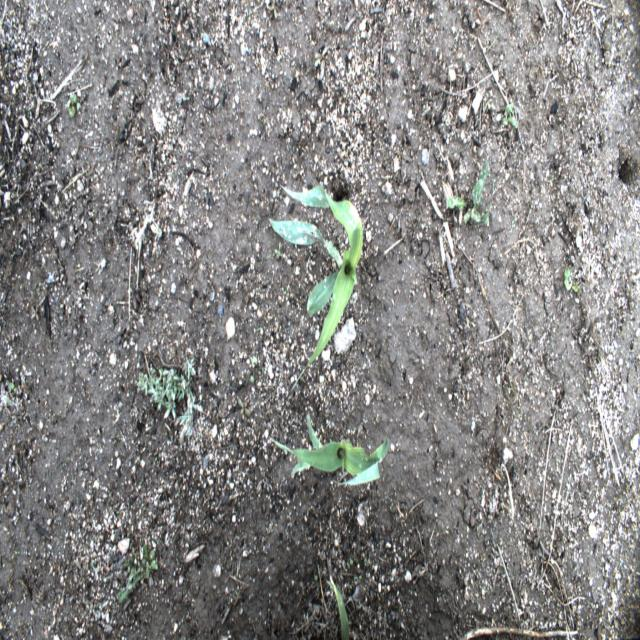crop: (268, 182, 362, 390), (268, 412, 389, 485), (326, 575, 349, 639)
weed: (136, 355, 204, 438), (447, 158, 491, 226), (117, 541, 158, 606), (66, 88, 82, 118), (562, 266, 580, 292), (502, 103, 518, 129), (4, 381, 18, 403), (237, 398, 251, 417), (273, 240, 281, 258), (250, 356, 258, 366), (346, 558, 353, 569), (314, 576, 318, 592), (283, 286, 288, 295), (14, 550, 21, 556), (250, 375, 254, 385), (389, 502, 394, 510)
